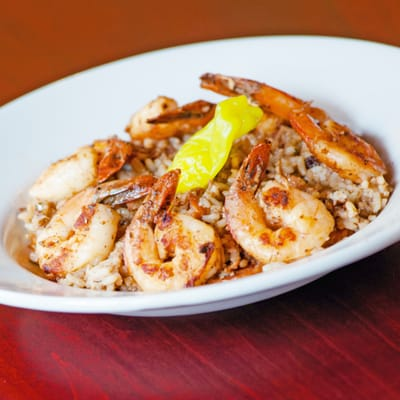curry: (3, 1, 400, 364)
